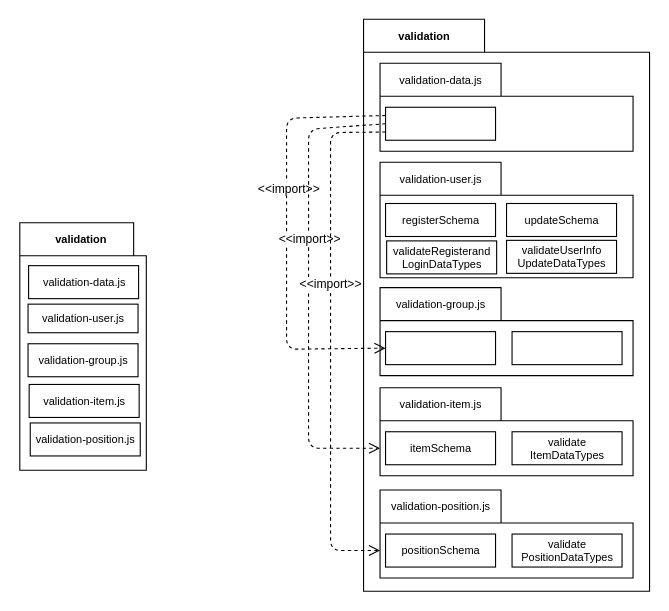
The diagram is 669 pixels wide and 611 high, and some of its shapes have lost their labels. Here are the shapes that lost their labels. From the top down, the centre of each, then its label:
the point at 440,123: validateDataTypes
the point at 440,348: groupSchema
the point at 566,348: validate GroupDataTypes
